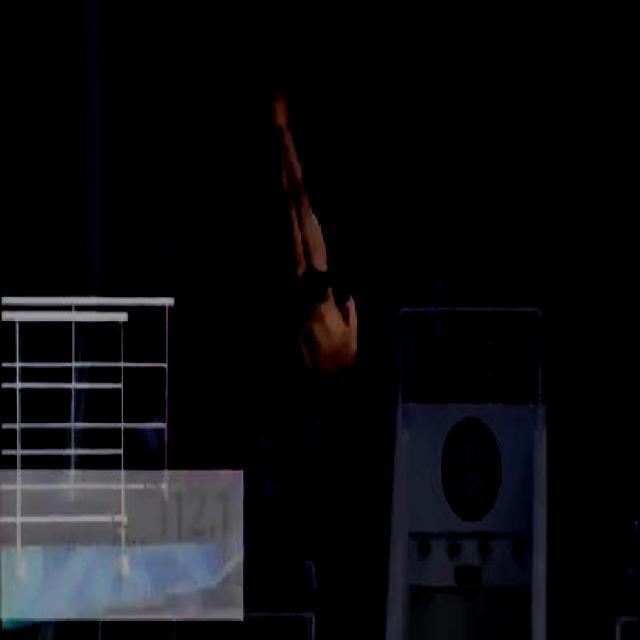non-fight: (265, 94, 363, 411)
